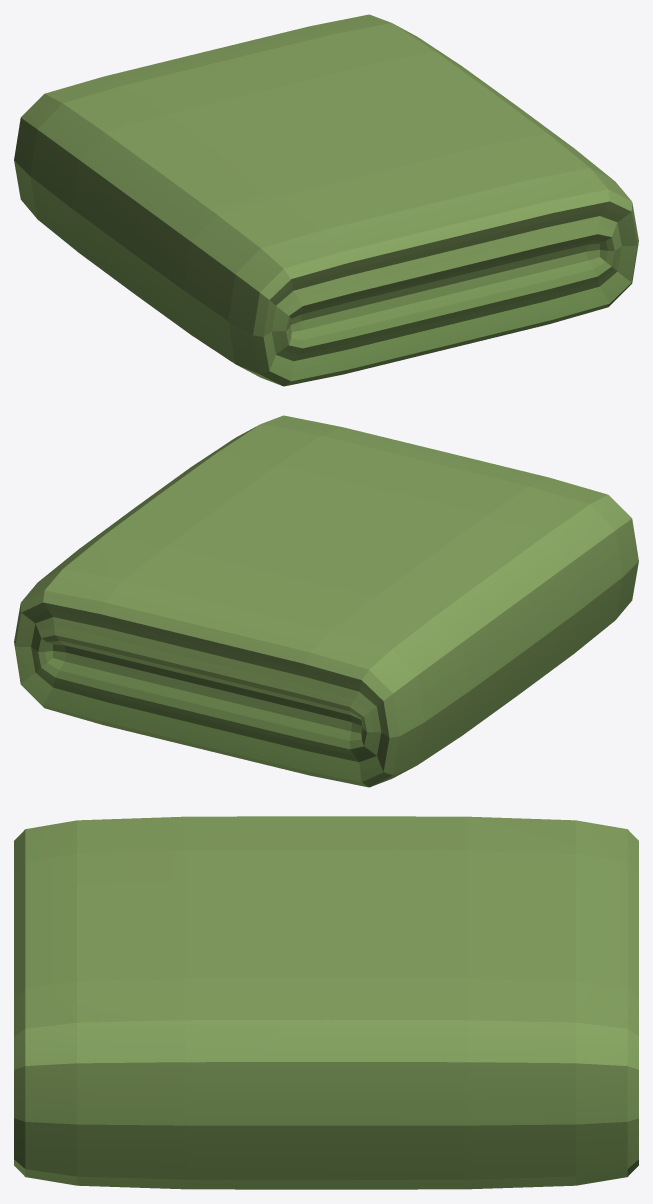
Rendered from Clothes3_C3.fbx.
The picture shows the model from 3 angles, top to bottom: view 1: azimuth 30°, elevation 25°; view 2: azimuth 150°, elevation 25°; view 3: azimuth 270°, elevation 25°; orthographic projection. The views are drawn at different scales.
Visible parts, largest first — view 1: Clothes3_C3; view 2: Clothes3_C3; view 3: Clothes3_C3.
Part boxes in pixels (x1,y1,x2,y2): Clothes3_C3: (14,14,638,386); Clothes3_C3: (14,415,638,787); Clothes3_C3: (14,816,638,1189).
Size of the model in its own units: 22.53 by 7.63 by 24.28.
